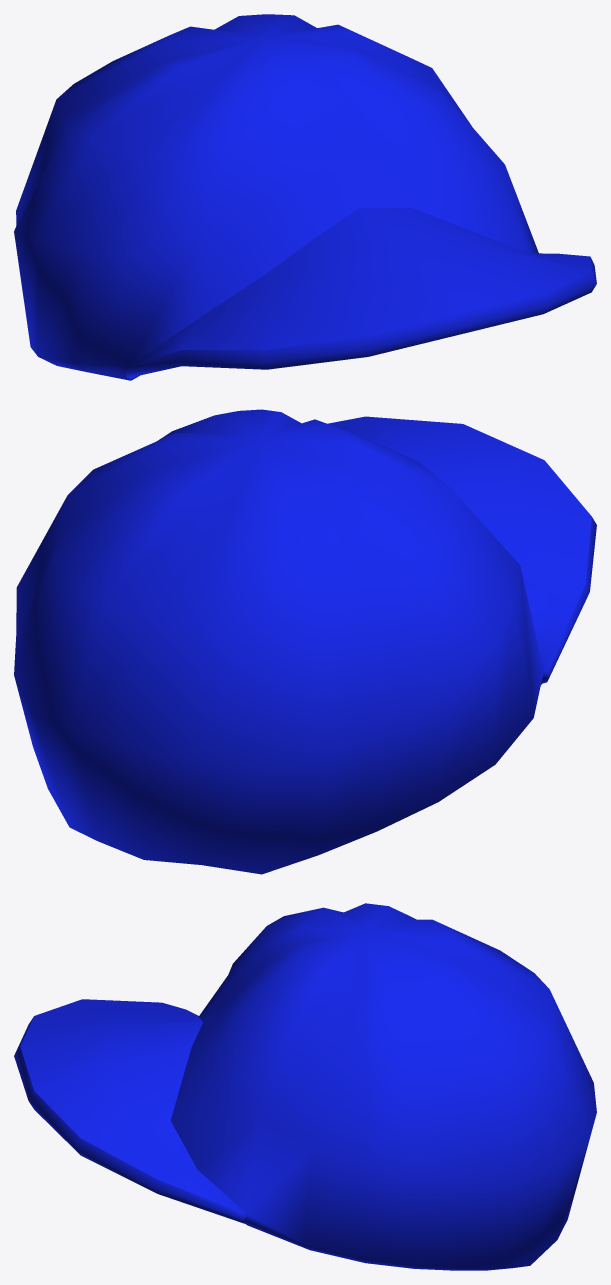
Rendered from hp_cap.glb.
3 renders of one model, top to bottom at view 1: azimuth 30°, elevation 25°; view 2: azimuth 150°, elevation 25°; view 3: azimuth 270°, elevation 25°, orthographic. The views are drawn at different scales.
Parts seen in each view (by area): view 1: HP_Cap; view 2: HP_Cap; view 3: HP_Cap.
Part boxes in pixels (box(x1,y1,x2,y2)): HP_Cap: box(14, 14, 596, 380); HP_Cap: box(14, 409, 596, 874); HP_Cap: box(14, 903, 596, 1270).
Size of the model in its own units: 0.4333 by 0.3131 by 0.5508.
1 material, 1 textured.
